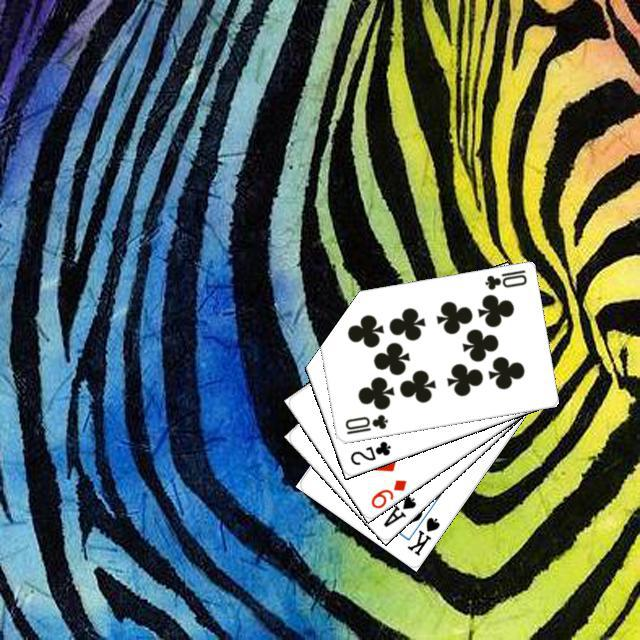10c: (340, 409, 389, 436), (480, 265, 528, 292)
2c: (345, 436, 393, 467)
9d: (366, 474, 408, 510)
As: (378, 491, 418, 529)
Ks: (402, 512, 442, 557)
